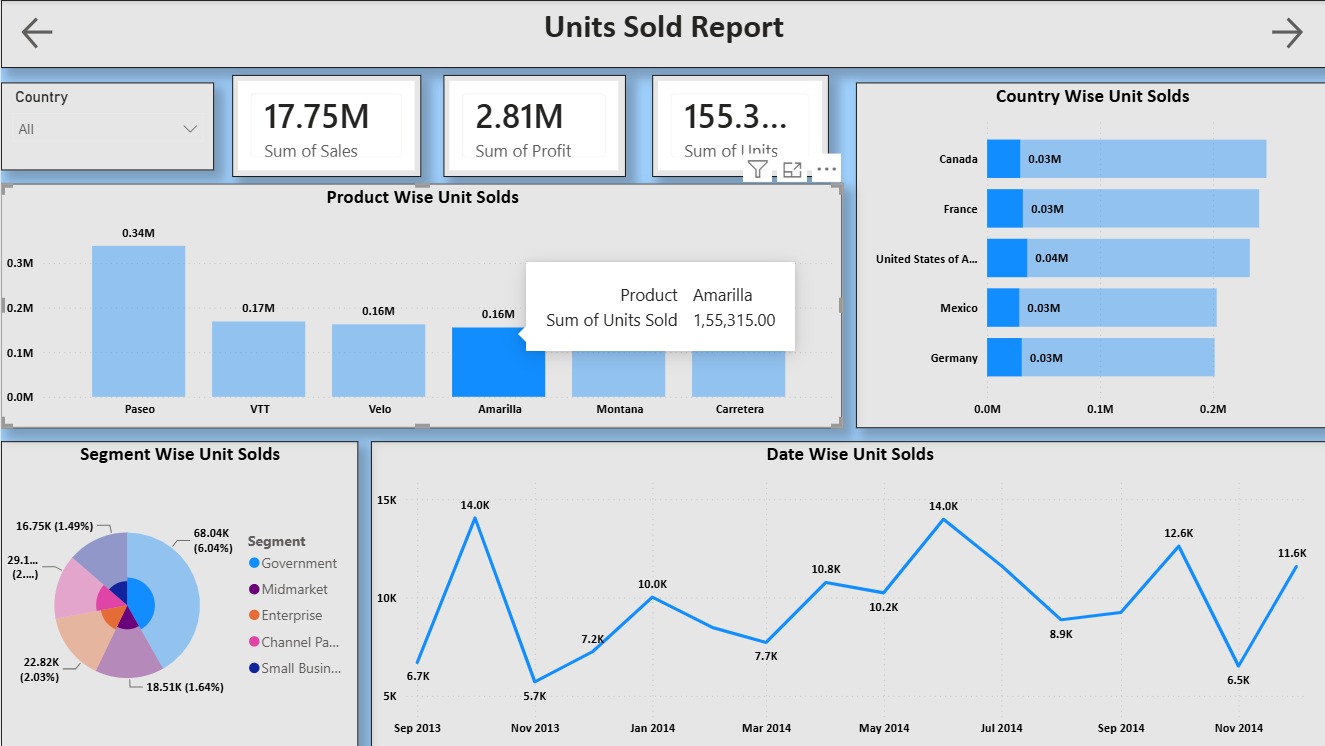

This screenshot's page, from the dashboard's own definition file:
{"tool":"powerbi","page":{"name":"Unit Sales Report","canvas":[1280,720],"ordinal":3},"visuals":[{"type":"textbox","box":[0,0,1280.3,65.9],"z":0},{"type":"lineChart","title":"Date Wise Unit Solds","fields":{"Y":["Sum(Sheet1.Units Sold)"],"Category":["Sheet1.Date"]},"box":[356.8,425.4,923.5,295],"z":1000},{"type":"barChart","title":"Country Wise Unit Solds","fields":{"Category":["Sheet1.Country"],"Y":["Sum(Sheet1.Units Sold)"]},"box":[824.7,79.6,455.6,333.4],"z":2000},{"type":"columnChart","title":"Product Wise Unit Solds","fields":{"Category":["Sheet1.Product"],"Y":["Sum(Sheet1.Units Sold)"]},"box":[0,177,812.4,236],"z":3000},{"type":"cardVisual","fields":{"Data":["Sum(Sheet1.Profit)"]},"box":[426.8,72.7,175.6,98.8],"z":4000},{"type":"cardVisual","fields":{"Data":["Sum(Sheet1.Units Sold)"]},"box":[628.5,72.7,170.2,98.8],"z":5000},{"type":"cardVisual","fields":{"Data":["Sum(Sheet1.Sales)"]},"box":[223.7,72.7,182.5,98.8],"z":6000},{"type":"pieChart","title":"Segment Wise Unit Solds","fields":{"Category":["Sheet1.Segment"],"Y":["Sum(Sheet1.Units Sold)"]},"box":[0,425.4,344.4,295],"z":7000},{"type":"slicer","fields":{"Values":["Sheet1.Country"]},"box":[0,79.6,205.8,85.1],"z":8000},{"type":"actionButton","box":[15.1,12.3,57.6,39.8],"z":8001},{"type":"actionButton","box":[1221,12.3,59,39.8],"z":8002}]}

Visuals, with their boxes in screenshot pixels (x1, y1, x2, y2), scaled from the page's 1280x720 canvas onto the 1325x746 screenshot:
textbox: (0,0,1324,68)
"Date Wise Unit Solds" lineChart: (369,441,1324,745)
"Country Wise Unit Solds" barChart: (854,82,1324,428)
"Product Wise Unit Solds" columnChart: (0,183,841,428)
cardVisual - Sum(Sheet1.Profit): (442,75,624,178)
cardVisual - Sum(Sheet1.Units Sold): (651,75,827,178)
cardVisual - Sum(Sheet1.Sales): (232,75,420,178)
"Segment Wise Unit Solds" pieChart: (0,441,357,745)
slicer - Sheet1.Country: (0,82,213,171)
actionButton: (16,13,75,54)
actionButton: (1264,13,1324,54)
